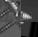pickaxe: (0, 0, 21, 22)
